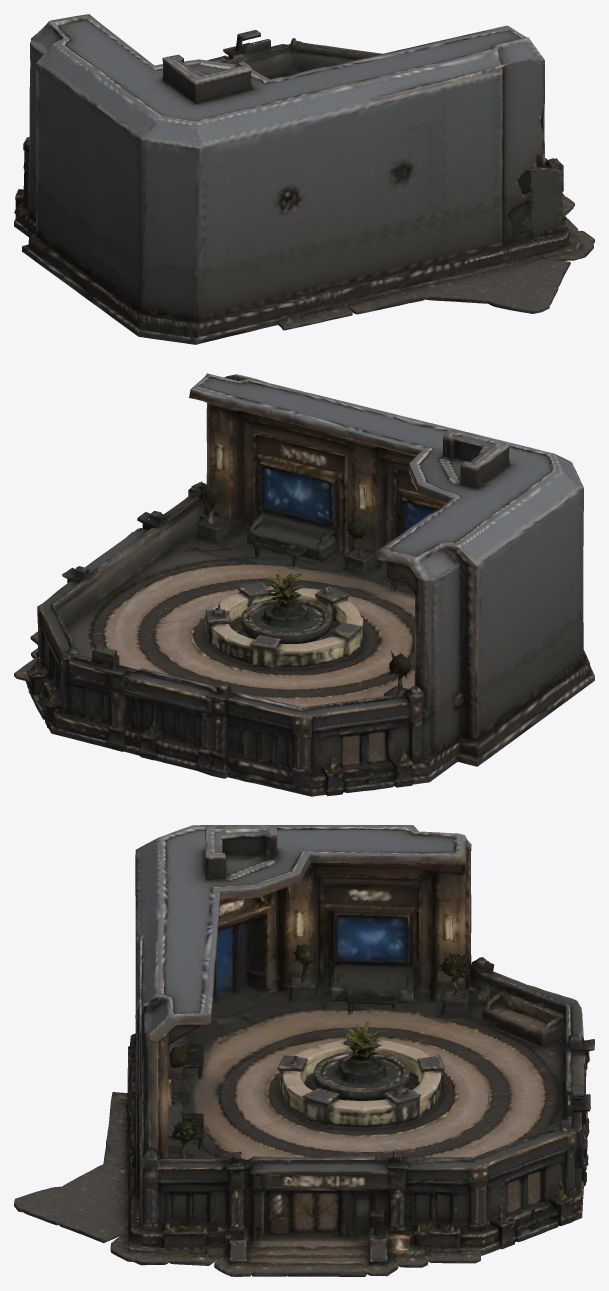
Rendered from CREWPLAZA_IN.glb.
3 views of the same model, one above another, from view 1: azimuth 30°, elevation 25°; view 2: azimuth 150°, elevation 25°; view 3: azimuth 270°, elevation 25° (orthographic). The views are drawn at different scales.
Visible parts, largest first — view 1: tripo_node_390cfcb6-ee42-4f33-81e6-1613b50fff2b; view 2: tripo_node_390cfcb6-ee42-4f33-81e6-1613b50fff2b; view 3: tripo_node_390cfcb6-ee42-4f33-81e6-1613b50fff2b.
Part boxes in pixels (box(x1,y1,x2,y2)): tripo_node_390cfcb6-ee42-4f33-81e6-1613b50fff2b: box(14, 14, 594, 344); tripo_node_390cfcb6-ee42-4f33-81e6-1613b50fff2b: box(14, 373, 594, 796); tripo_node_390cfcb6-ee42-4f33-81e6-1613b50fff2b: box(14, 825, 594, 1276).
Bounding box in the file's own units: 0.9901 × 0.4673 × 1.
Materials: 1 (1 with a texture image).
